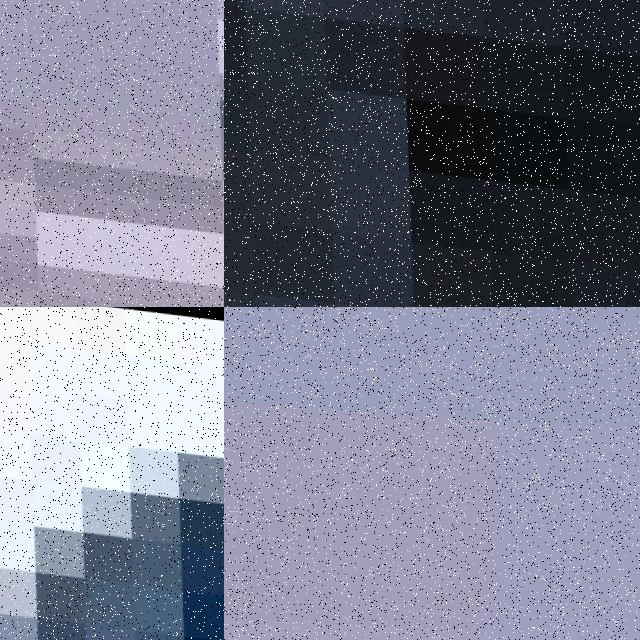drone: (224, 0, 640, 307), (0, 307, 224, 640), (0, 0, 224, 307)
